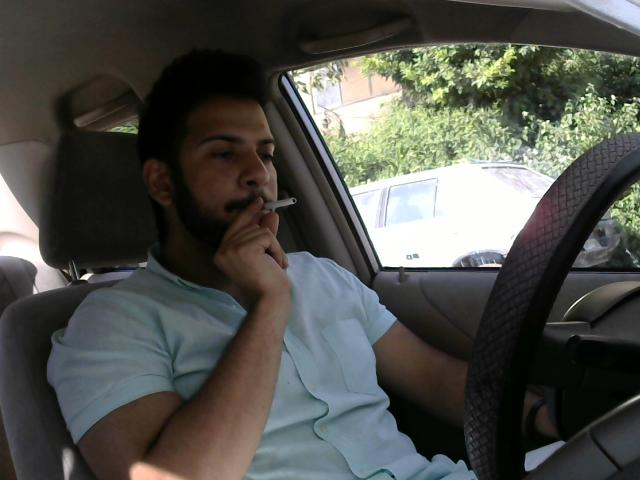Smoking: (250, 193, 302, 216)
